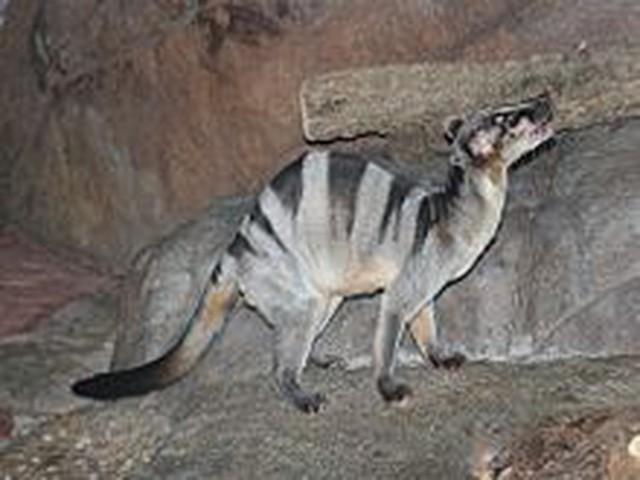civet: (71, 90, 555, 412)
